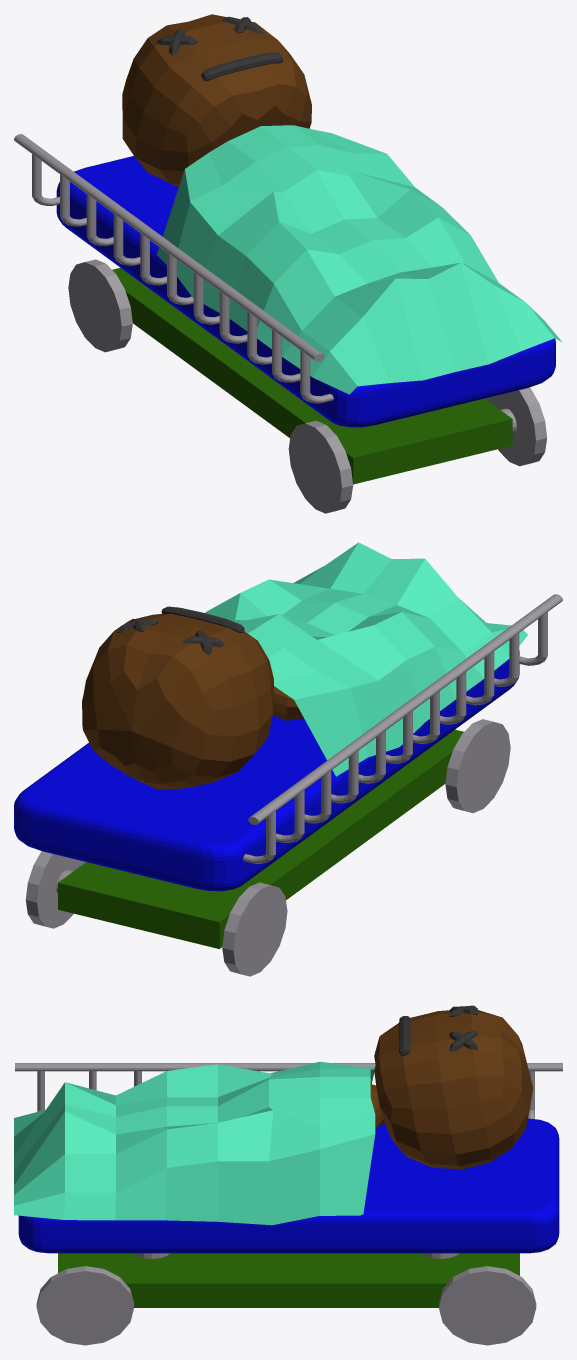
Rendered from Stretcher-WPlayer.fbx.
The picture shows the model from 3 angles, top to bottom: view 1: azimuth 30°, elevation 25°; view 2: azimuth 150°, elevation 25°; view 3: azimuth 270°, elevation 25°; orthographic projection. The views are drawn at different scales.
Parts seen in each view (by area): view 1: Stretcher Blanket, Stretcher-WPlayer, For Stretcher, Mouth, Eyes; view 2: Stretcher-WPlayer, Stretcher Blanket, For Stretcher, Eyes, Mouth; view 3: Stretcher-WPlayer, Stretcher Blanket, For Stretcher, Eyes, Mouth.
Boxes of the visible parts, x1=… form: Stretcher Blanket: x1=156, y1=125, x2=562, y2=394; Stretcher-WPlayer: x1=14, y1=134, x2=555, y2=513; For Stretcher: x1=122, y1=14, x2=311, y2=187; Mouth: x1=201, y1=52, x2=283, y2=81; Eyes: x1=156, y1=16, x2=263, y2=55; Stretcher-WPlayer: x1=14, y1=594, x2=562, y2=976; Stretcher Blanket: x1=205, y1=542, x2=527, y2=776; For Stretcher: x1=82, y1=613, x2=303, y2=789; Eyes: x1=116, y1=618, x2=224, y2=654; Mouth: x1=161, y1=606, x2=244, y2=633; Stretcher-WPlayer: x1=15, y1=1063, x2=562, y2=1345; Stretcher Blanket: x1=14, y1=1061, x2=375, y2=1225; For Stretcher: x1=370, y1=1010, x2=533, y2=1169; Eyes: x1=449, y1=1005, x2=477, y2=1051; Mouth: x1=399, y1=1016, x2=410, y2=1056.
Size of the model in its own units: 200 by 223 by 397.
